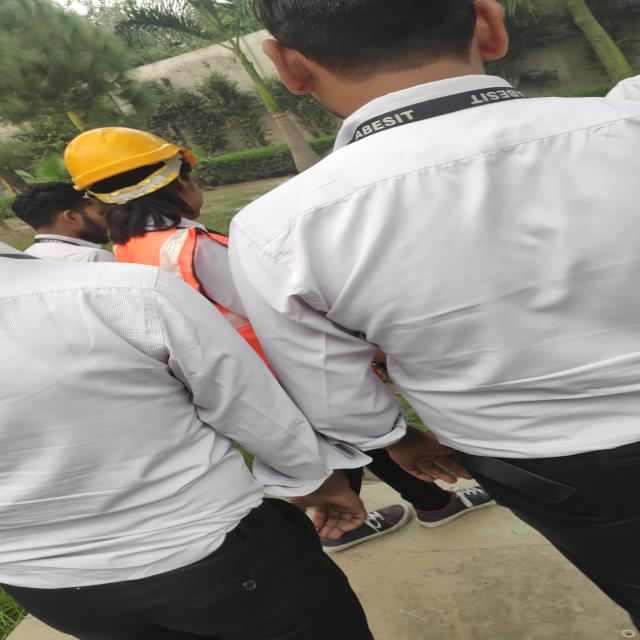safe: (69, 121, 264, 332)
unsafe: (238, 0, 640, 543)
